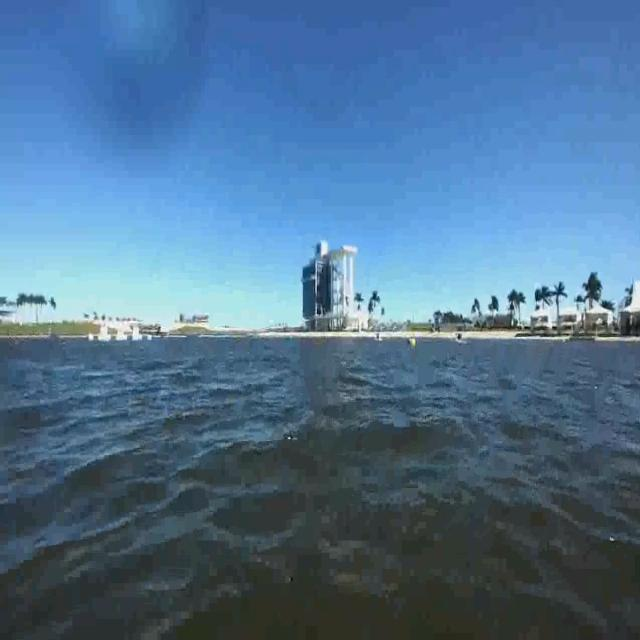yellow-buoy: (411, 338, 418, 349)
